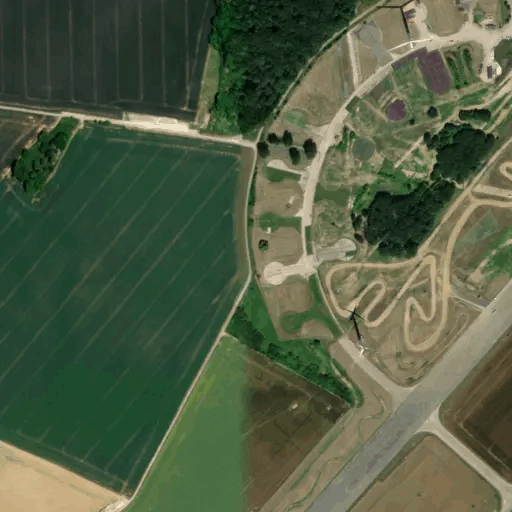wt: (372, 1, 437, 55), (332, 296, 377, 364)
